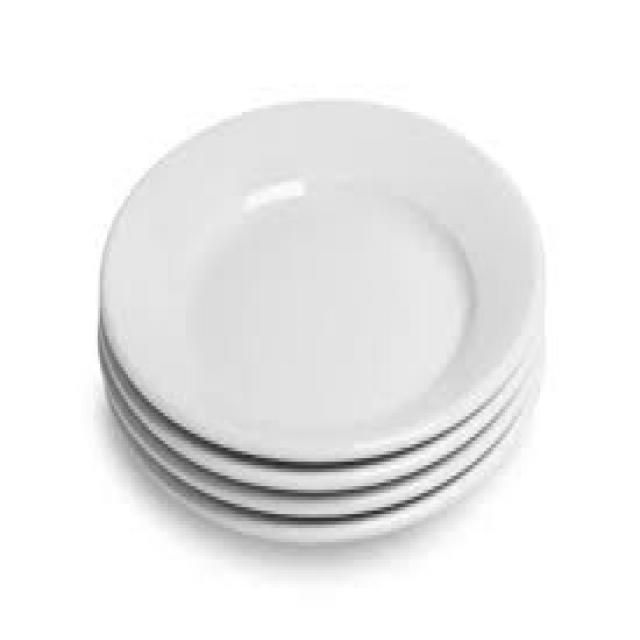dish: (57, 58, 582, 579)
